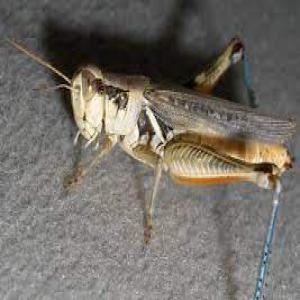locust: (60, 31, 300, 238)
